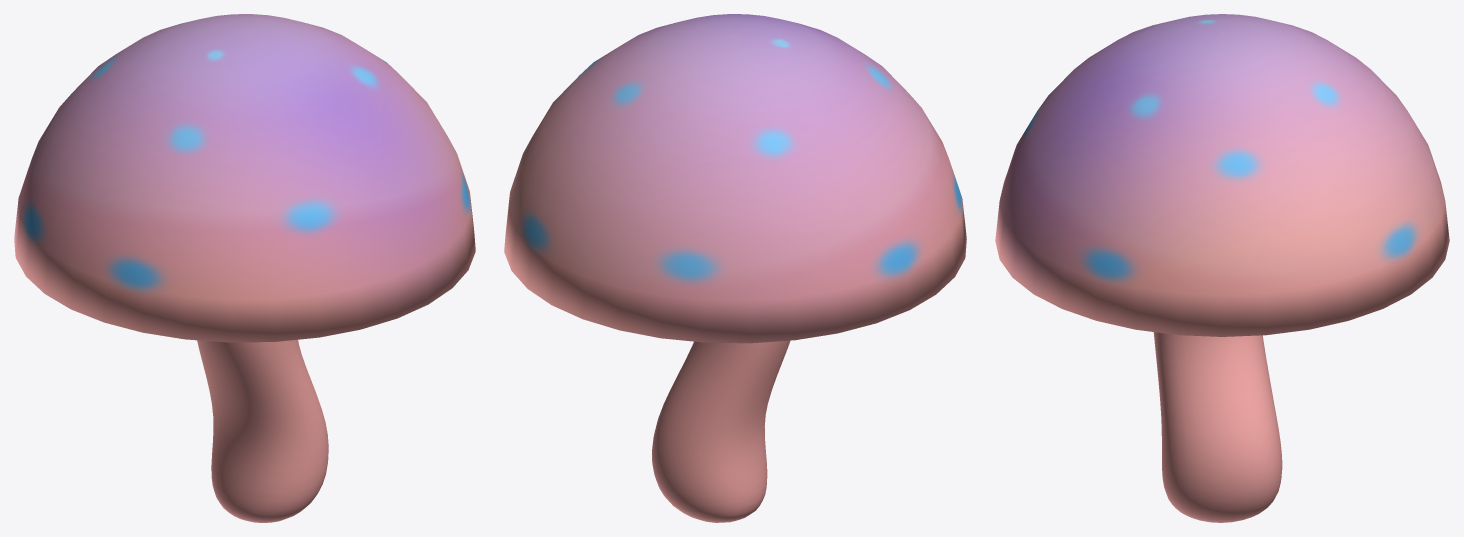
File: mushroom.fbx
3 views of the same model, side by side, from view 1: azimuth 30°, elevation 25°; view 2: azimuth 150°, elevation 25°; view 3: azimuth 270°, elevation 25° (orthographic). The views are drawn at different scales.
Visible parts, largest first — view 1: Sphere, Cube.001; view 2: Sphere, Cube.001; view 3: Sphere, Cube.001.
Part boxes in pixels (x1=…): Sphere: x1=14, y1=14, x2=475, y2=342; Cube.001: x1=197, y1=339, x2=328, y2=522; Sphere: x1=504, y1=14, x2=966, y2=343; Cube.001: x1=652, y1=340, x2=790, y2=522; Sphere: x1=995, y1=14, x2=1449, y2=336; Cube.001: x1=1153, y1=332, x2=1282, y2=522.
Size of the model in its own units: 200 by 230 by 200.
Materials: 2 (2 with a texture image).
